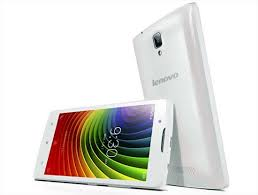lenovo: (27, 95, 180, 191)
